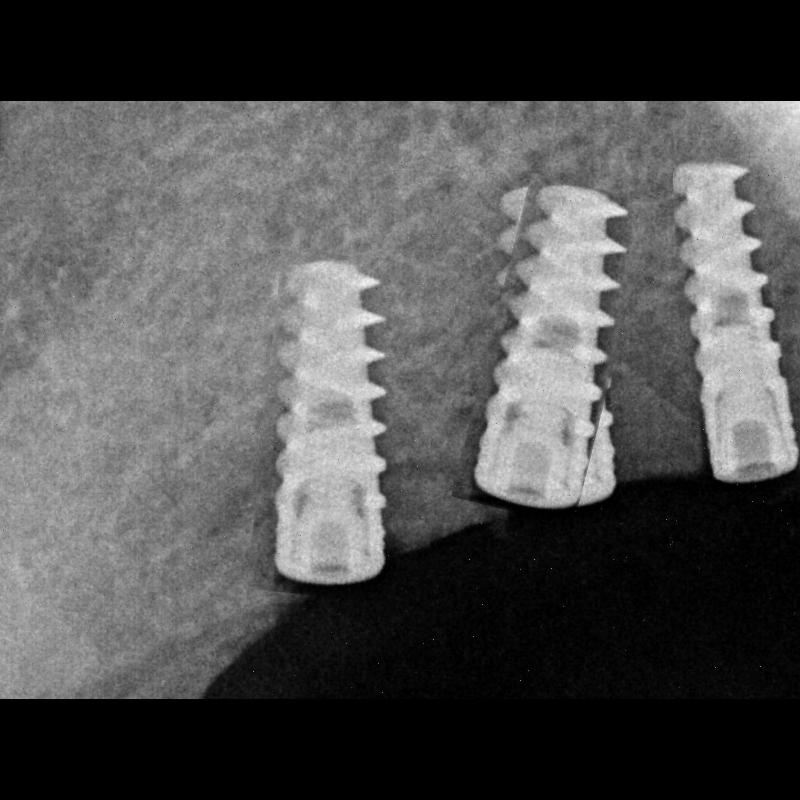ADIN: (257, 254, 451, 602), (471, 178, 635, 522), (676, 158, 800, 490)
